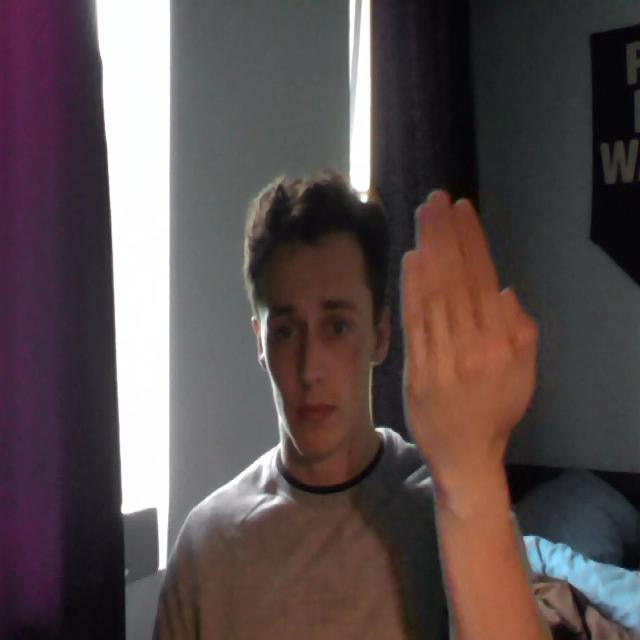forward: (382, 180, 553, 459)
